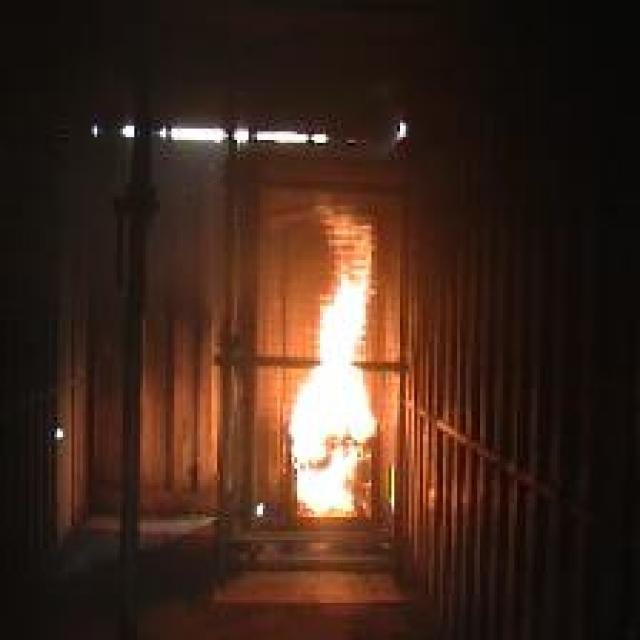Fire: (290, 196, 379, 518)
